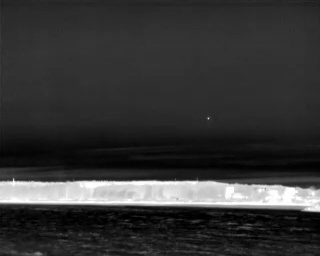HELICOPTER: (205, 114, 213, 123)
